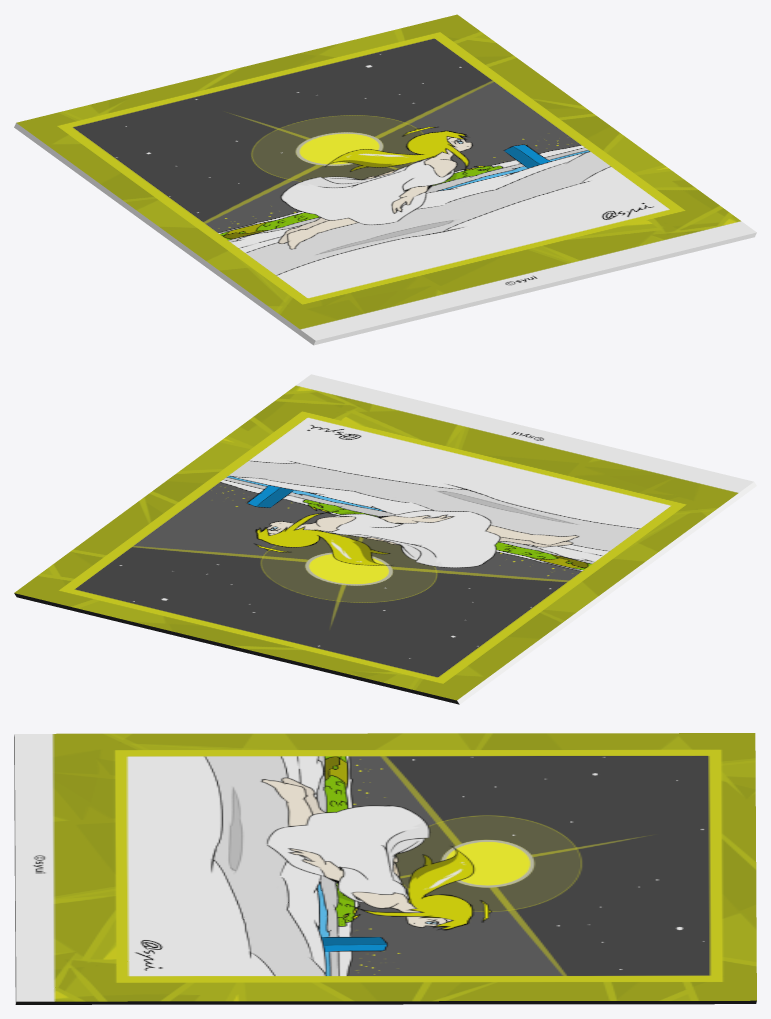
File: card_1.glb
3 views of the same model, one above another, from view 1: azimuth 30°, elevation 25°; view 2: azimuth 150°, elevation 25°; view 3: azimuth 270°, elevation 25° (orthographic). The views are drawn at different scales.
Visible parts, largest first — view 1: Object_2; view 2: Object_2; view 3: Object_2.
Boxes of the visible parts, x1,y1,x2,y2 form: Object_2: (14,14,756,345); Object_2: (14,374,756,704); Object_2: (14,733,756,1004).
Bounding box in the file's own units: 5.13 × 0.0425 × 5.97.
Materials: 2 (2 with a texture image).
